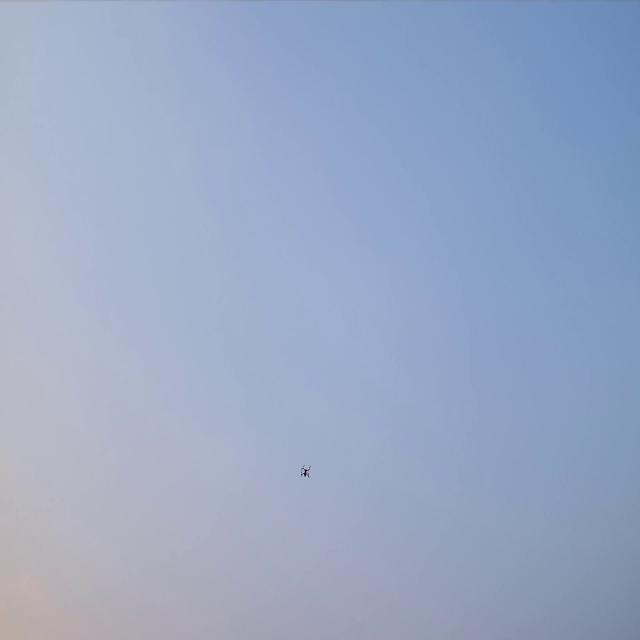UAV: (299, 464, 312, 479)
